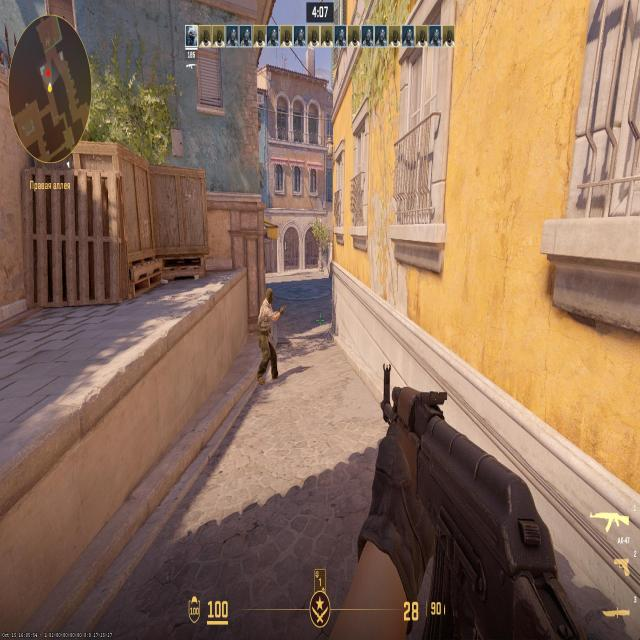T: (259, 291, 273, 361)
T_heat: (265, 296, 271, 306)
